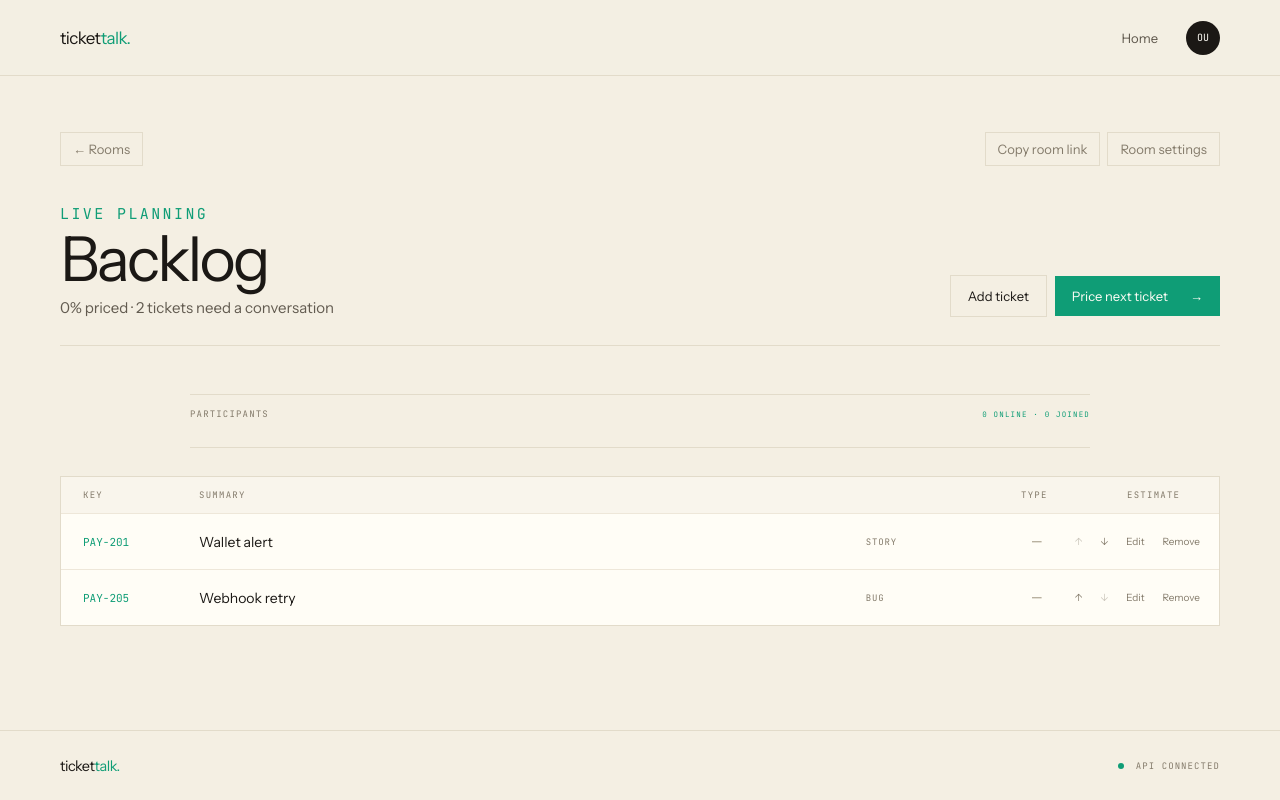
Test: active ticket synchronization › persists the facilitator selection before opening the session
expect the heading "Backlog" is shown: met, box [60,221,268,297]
Click the button "PAY-205 Webhook retry Bug —": (106, 598) [61,570,1064,625]
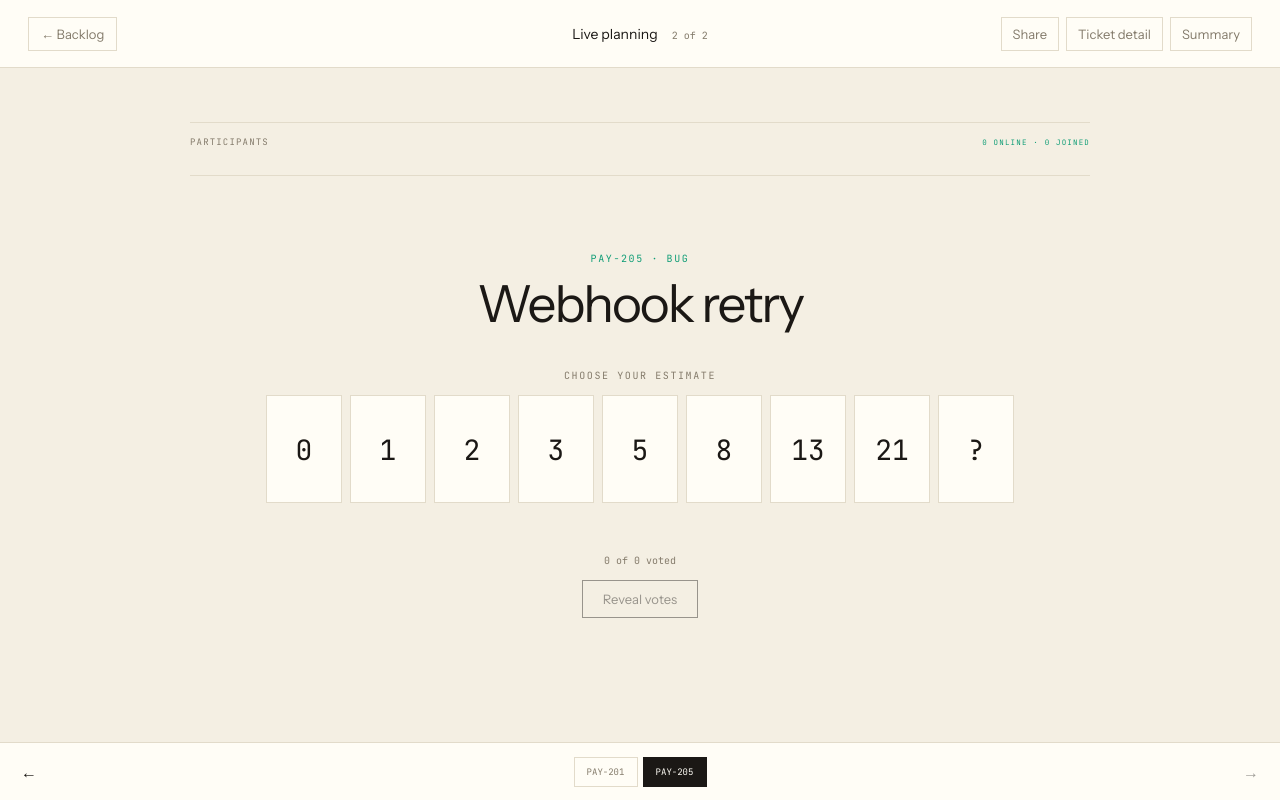
expect the heading "Webhook retry" is shown: met, box [477,276,803,331]
expect the text "PAY-205 · Bug" is shown: met, box [591,252,689,265]
expect the button named "Open ticket PAY-205" reads "PAY-205": met, box [642,756,706,786]
